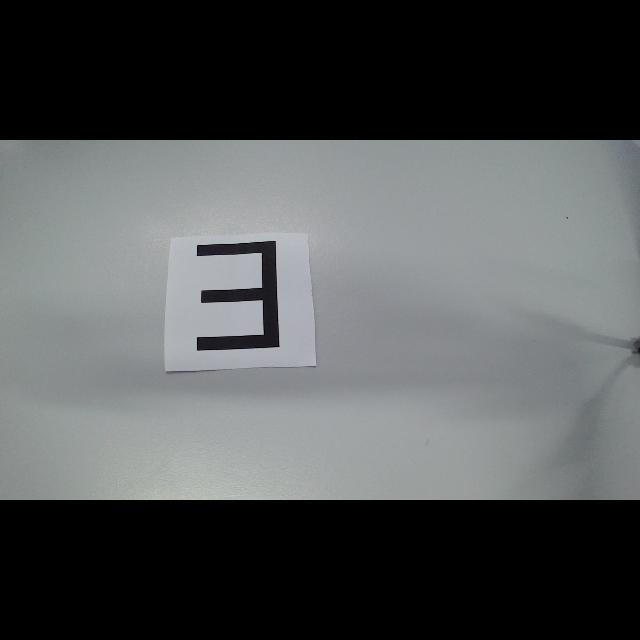FAKE: (196, 240, 280, 350)
